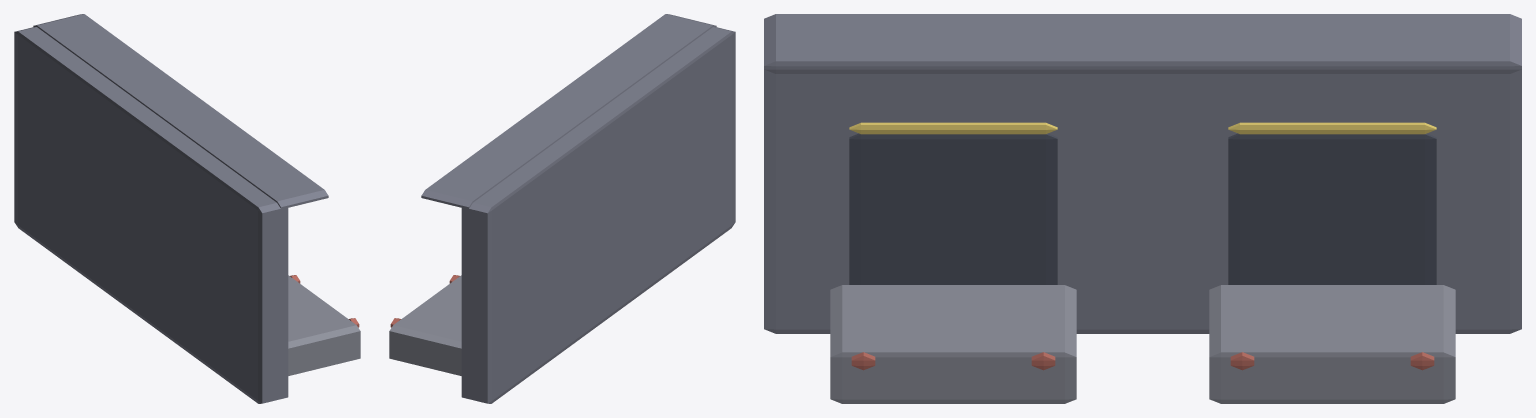
File: rampa.glb
3 renders of one model, left to right at view 1: azimuth 30°, elevation 25°; view 2: azimuth 150°, elevation 25°; view 3: azimuth 270°, elevation 25°, orthographic. The views are drawn at different scales.
Parts seen in each view (by area): view 1: Rampa; view 2: Rampa; view 3: Rampa.
Boxes of the visible parts, <box> form: Rampa: <box>14,14,360,403</box>; Rampa: <box>389,14,735,403</box>; Rampa: <box>764,14,1521,403</box>.
Size of the model in its own units: 4.71 by 7.05 by 16.
